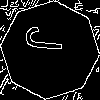J: (25, 25, 73, 54)
